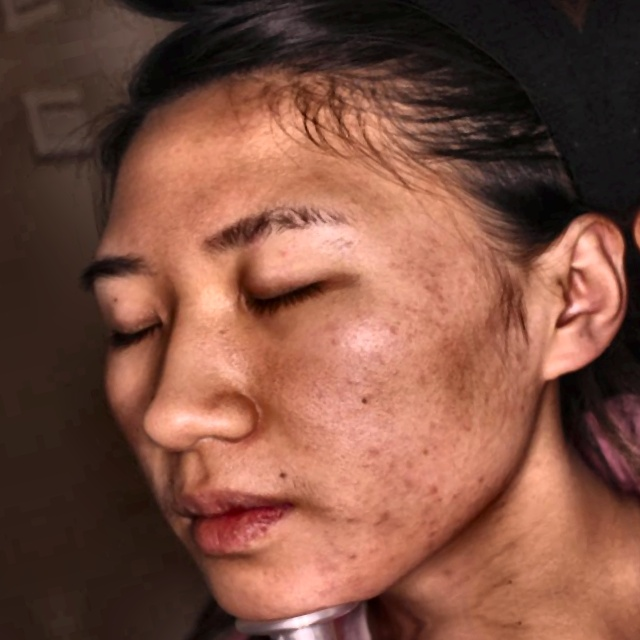comedone: (339, 560, 381, 602), (410, 475, 451, 508), (363, 502, 401, 529)
